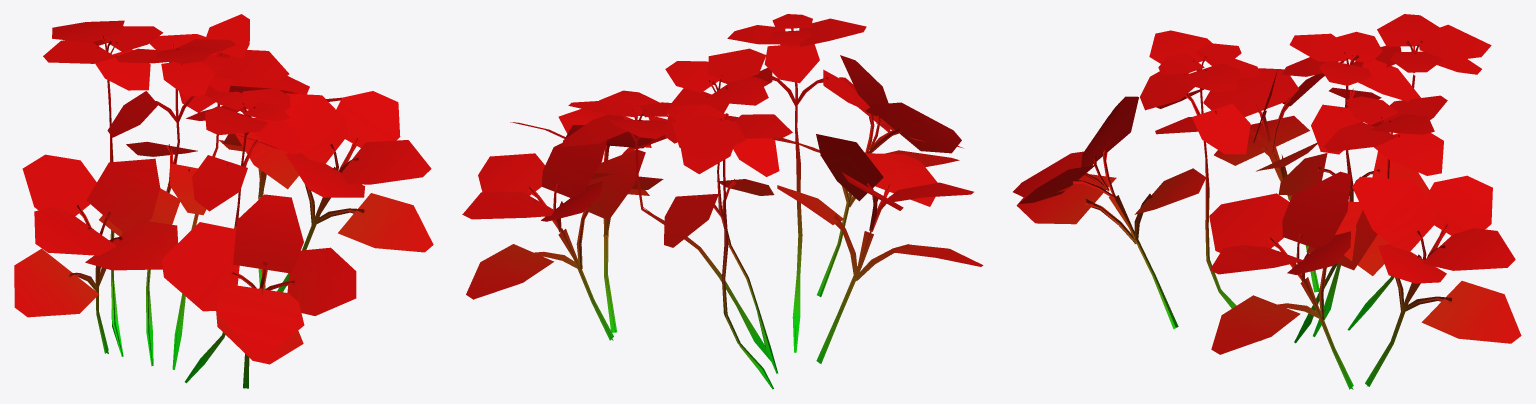
File: Yellow Archangel_LOD2_Var7_wcwmcfvia.fbx
3 views of the same model, side by side, from view 1: azimuth 30°, elevation 25°; view 2: azimuth 150°, elevation 25°; view 3: azimuth 270°, elevation 25° (orthographic). The views are drawn at different scales.
Parts seen in each view (by area): view 1: _mxa0_Var7_LOD2; view 2: _mxa0_Var7_LOD2; view 3: _mxa0_Var7_LOD2.
Part boxes in pixels (<box>): _mxa0_Var7_LOD2: <box>14,14,433,388</box>; _mxa0_Var7_LOD2: <box>462,14,983,389</box>; _mxa0_Var7_LOD2: <box>1013,14,1521,389</box>.
Size of the model in its own units: 11.28 by 7.71 by 11.4.
